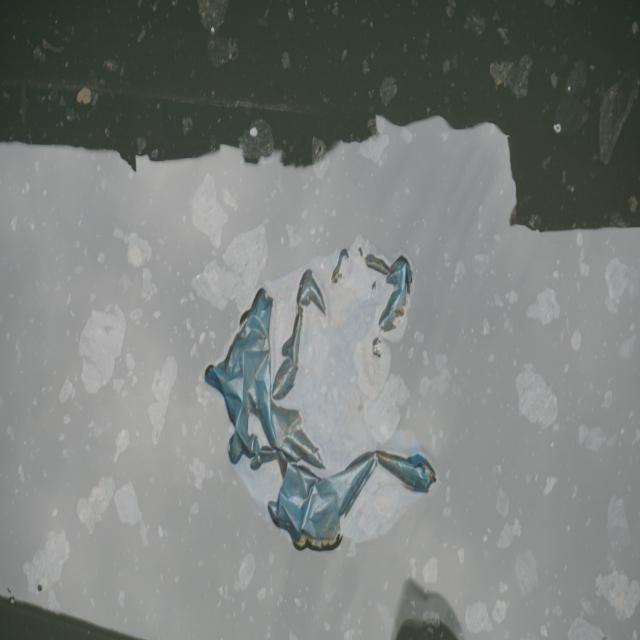Kantong Plastik: (201, 226, 442, 555)
